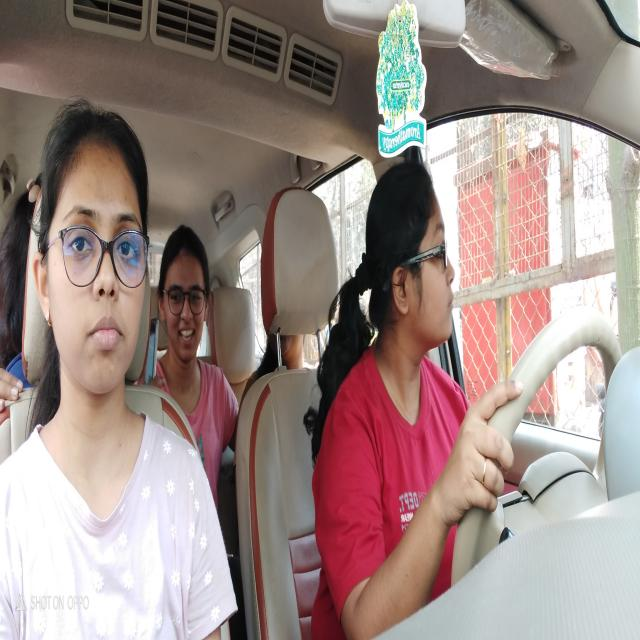person: (30, 100, 154, 400), (369, 156, 460, 362), (155, 224, 213, 364), (268, 331, 308, 366)
